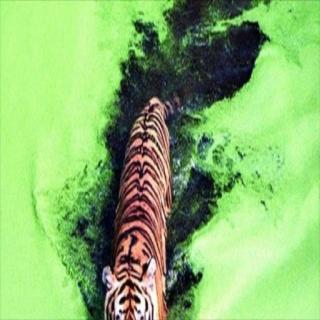Tiger: (102, 84, 174, 320)
